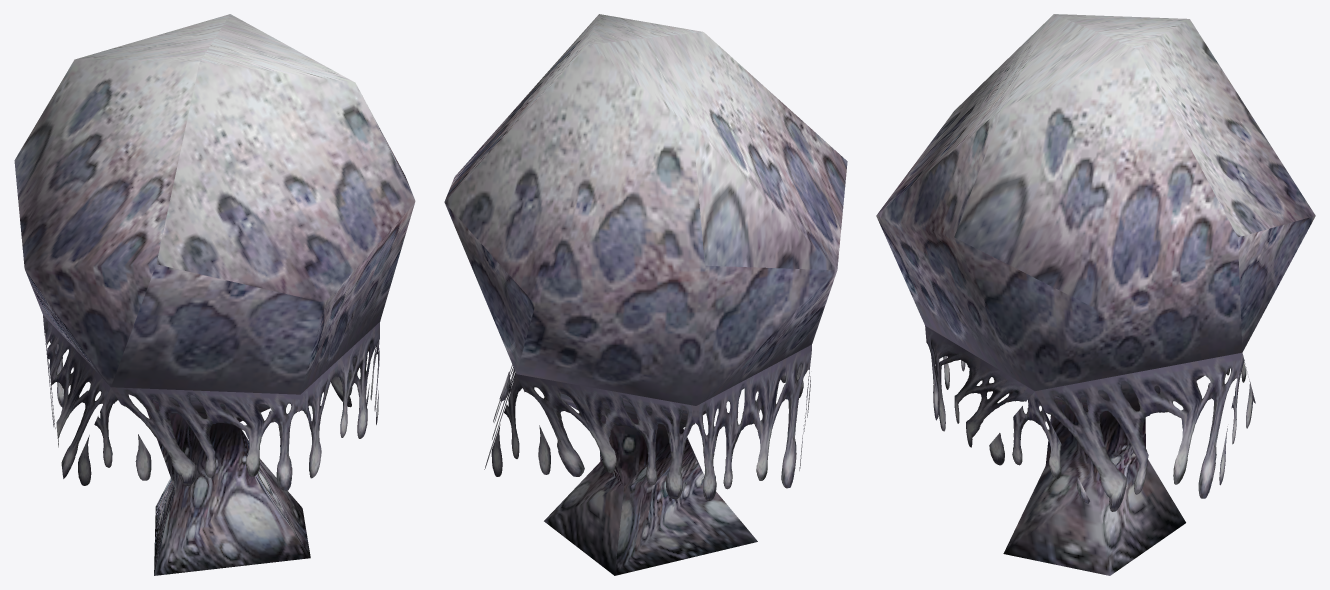
Rendered from grenade_fungus1_l1.fbx.
The picture shows the model from 3 angles, left to right: view 1: azimuth 30°, elevation 25°; view 2: azimuth 150°, elevation 25°; view 3: azimuth 270°, elevation 25°; orthographic projection.
Parts seen in each view (by area): view 1: mesh_node; view 2: mesh_node; view 3: mesh_node.
Part boxes in pixels (x1=…): mesh_node: x1=14, y1=14, x2=415, y2=575; mesh_node: x1=444, y1=14, x2=847, y2=575; mesh_node: x1=876, y1=14, x2=1315, y2=575.
Bounding box in the file's own units: 0.5623 × 0.7028 × 0.5623.
